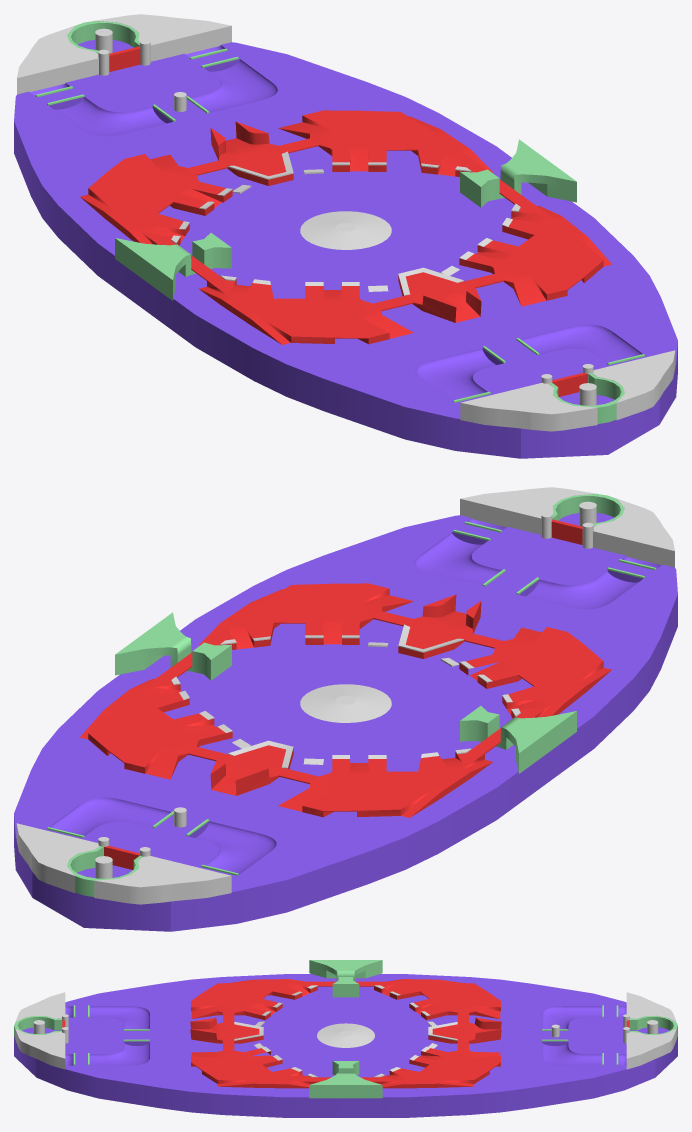
File: Blockout09.FBX
The picture shows the model from 3 angles, top to bottom: view 1: azimuth 30°, elevation 25°; view 2: azimuth 150°, elevation 25°; view 3: azimuth 270°, elevation 25°; orthographic projection. The views are drawn at different scales.
Visible parts, largest first — view 1: Box075, Plane002, Box067, Object110, Cylinder059, Tube005, Box074, Box066, Cylinder060, Cylinder058; view 2: Box075, Plane002, Box067, Object110, Cylinder059, Tube005, Box074, Box066, Cylinder060, Cylinder058; view 3: Box075, Plane002, Box067, Object110, Cylinder059, Tube005, Box074, Cylinder058, Cylinder060.
Boxes of the visible parts, x1=… form: Box075: x1=14, y1=40, x2=677, y2=458; Plane002: x1=80, y1=110, x2=611, y2=344; Box067: x1=17, y1=14, x2=675, y2=431; Object110: x1=115, y1=139, x2=576, y2=300; Cylinder059: x1=300, y1=211, x2=391, y2=249; Tube005: x1=67, y1=21, x2=624, y2=423; Box074: x1=171, y1=151, x2=520, y2=295; Box066: x1=109, y1=46, x2=587, y2=396; Cylinder060: x1=98, y1=39, x2=593, y2=383; Cylinder058: x1=95, y1=28, x2=596, y2=405; Box075: x1=14, y1=513, x2=677, y2=931; Plane002: x1=80, y1=583, x2=611, y2=817; Box067: x1=16, y1=487, x2=674, y2=904; Object110: x1=115, y1=612, x2=576, y2=773; Cylinder059: x1=300, y1=684, x2=391, y2=722; Tube005: x1=67, y1=494, x2=624, y2=896; Box074: x1=171, y1=624, x2=520, y2=768; Box066: x1=104, y1=519, x2=582, y2=869; Cylinder060: x1=98, y1=512, x2=593, y2=856; Cylinder058: x1=95, y1=501, x2=596, y2=878; Box075: x1=14, y1=974, x2=677, y2=1117; Plane002: x1=190, y1=979, x2=501, y2=1088; Box067: x1=15, y1=992, x2=676, y2=1069; Object110: x1=309, y1=960, x2=382, y2=1098; Cylinder059: x1=317, y1=1023, x2=374, y2=1047; Tube005: x1=14, y1=1016, x2=677, y2=1038; Box074: x1=234, y1=985, x2=457, y2=1077; Cylinder058: x1=33, y1=1020, x2=658, y2=1033; Cylinder060: x1=62, y1=1014, x2=629, y2=1043.
Bounding box in the file's own units: 39027 × 4979 × 87653.
